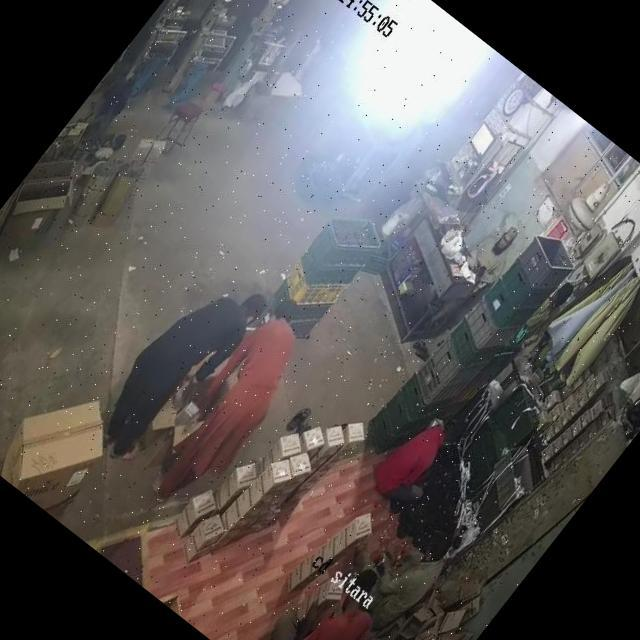person: (156, 298, 331, 498), (115, 257, 281, 446), (370, 398, 474, 516), (284, 572, 389, 640), (374, 528, 454, 613), (462, 217, 528, 289), (520, 276, 581, 346)
